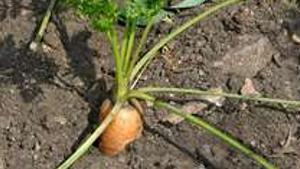carrot: (83, 80, 153, 158)
